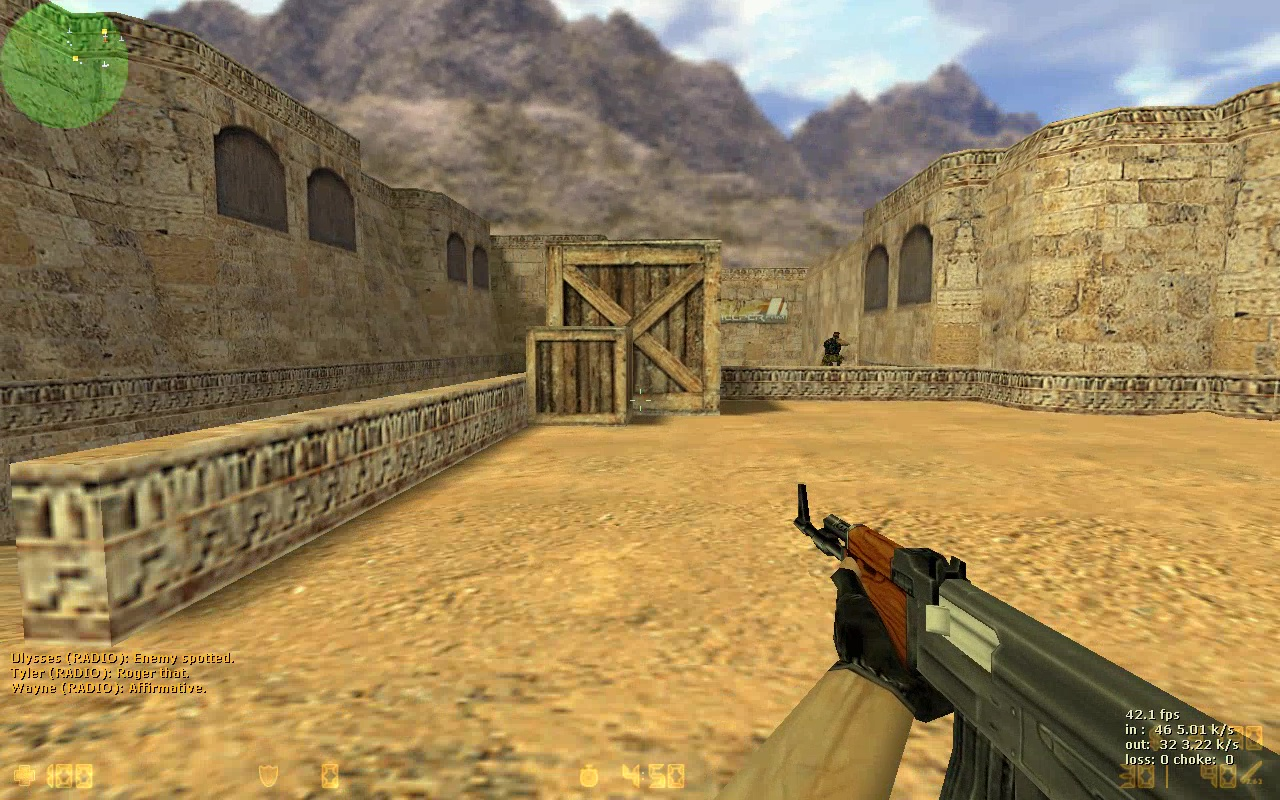terr1: (819, 331, 849, 367)
